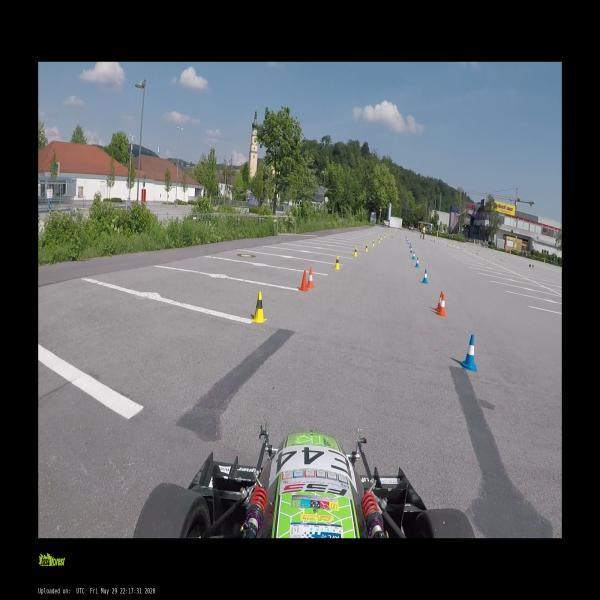blue_cone: (462, 334, 477, 372), (422, 269, 428, 284), (415, 258, 419, 267), (412, 251, 415, 260), (410, 246, 412, 253), (406, 238, 408, 242), (410, 242, 411, 248), (408, 240, 409, 244)
orange_cone: (437, 294, 446, 318), (299, 269, 308, 293), (306, 268, 314, 289), (436, 291, 444, 312)
yellow_cone: (251, 291, 266, 324), (334, 255, 340, 268), (353, 247, 357, 256), (365, 244, 368, 251), (372, 240, 374, 246), (378, 237, 380, 243), (380, 235, 382, 240), (384, 234, 385, 238), (387, 232, 388, 236)
